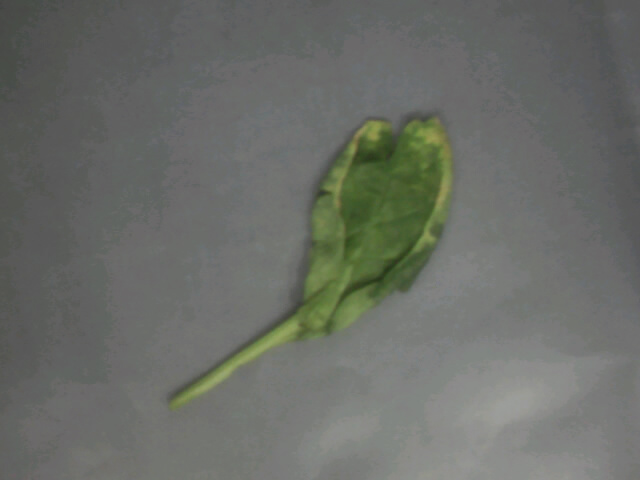yellow: (179, 81, 478, 378)
